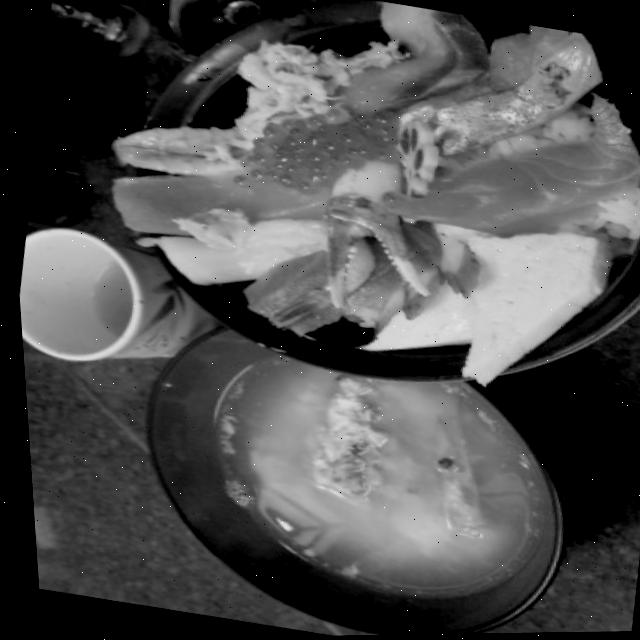刺身生食: (58, 0, 640, 434)
汤锅炖物: (75, 284, 611, 639)
